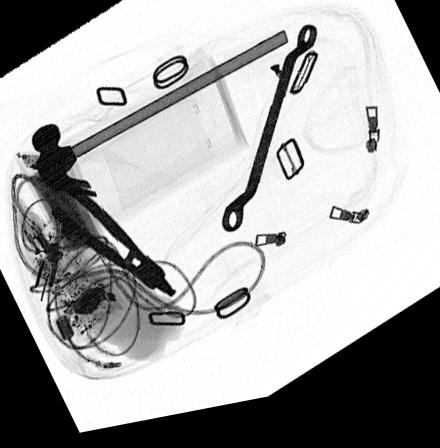Hammer: (29, 39, 286, 200)
Pliers: (48, 186, 176, 306)
Powerbank: (17, 140, 106, 257)
Wrench: (219, 36, 315, 243)
